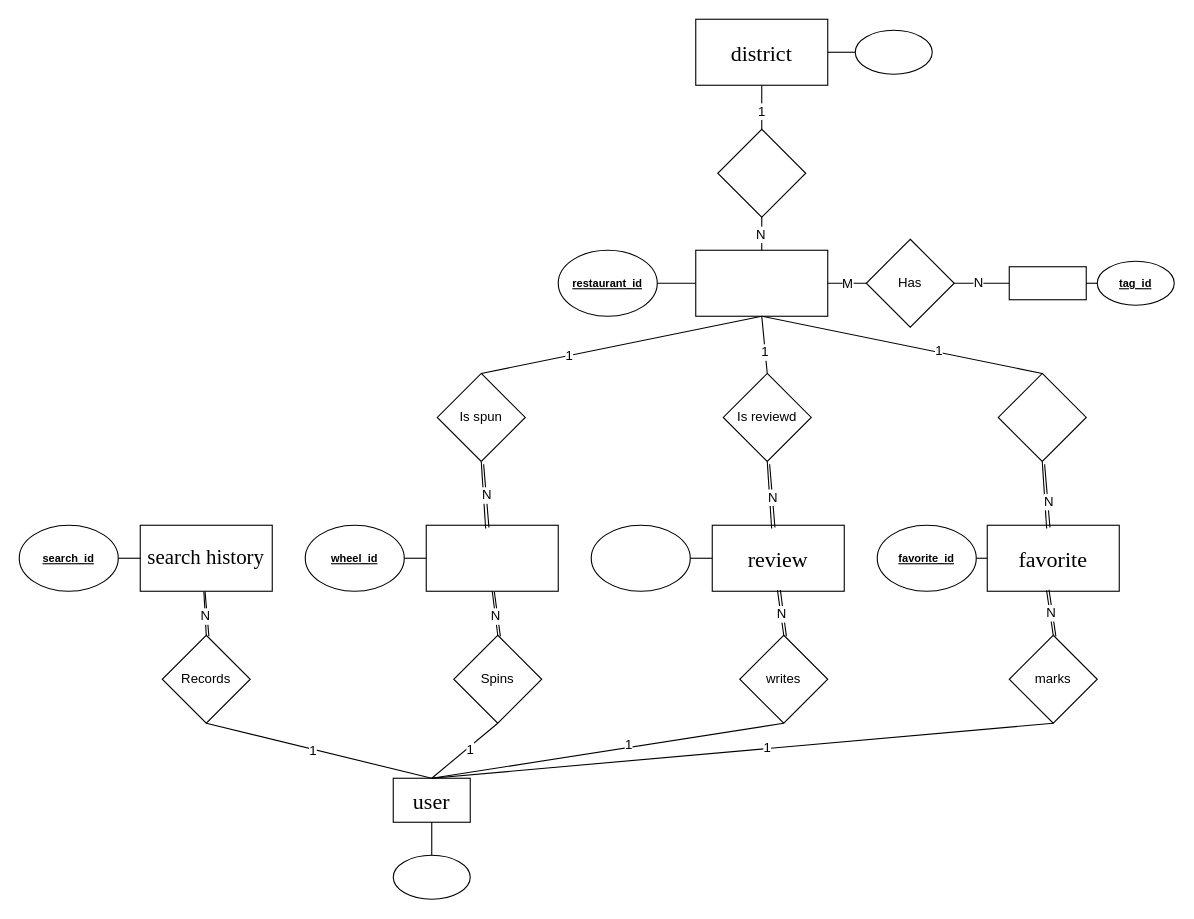
Image size: 1194x919. Some labels were removed from this diagram. The shapes that lost their labels are listed below. From the top down, each one's centre as x and y in pixels, then its label:
At (x=893, y=51): "zipcode".
At (x=761, y=172): "Contains".
At (x=761, y=282): "restaurant".
At (x=1047, y=283): "tag".
At (x=1041, y=416): "Is marked".
At (x=491, y=557): "wheel history".
At (x=640, y=557): "review_id".
At (x=431, y=876): "user_id".
